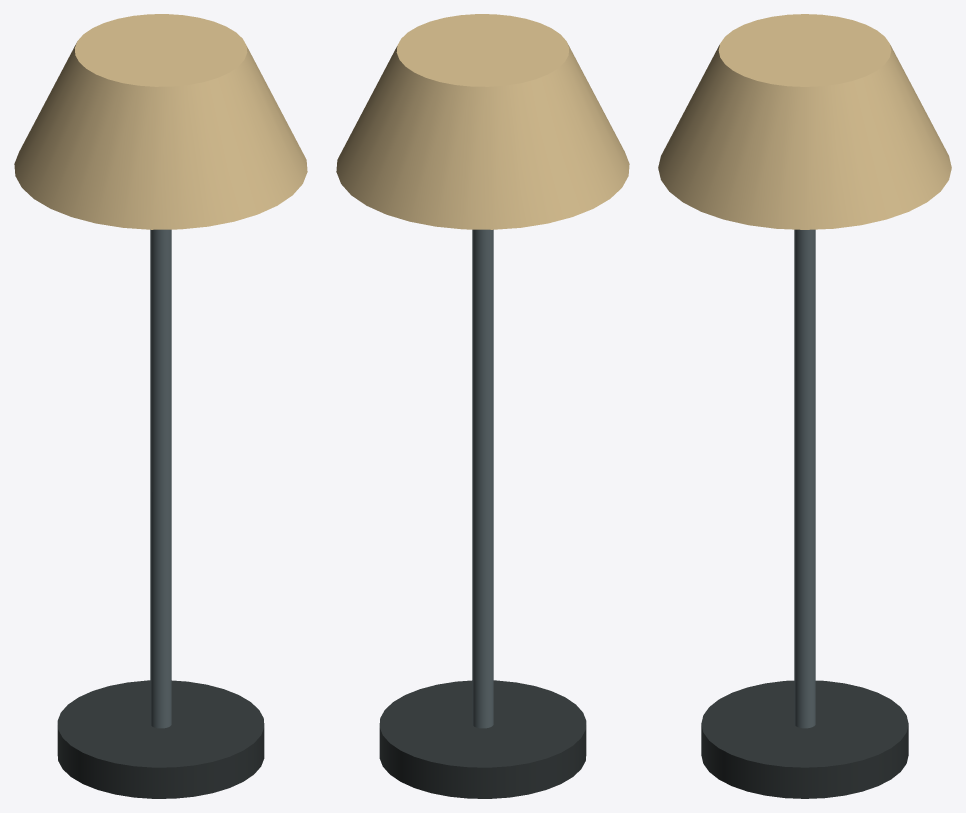
File: lamp.glb
3 renders of one model, left to right at view 1: azimuth 30°, elevation 25°; view 2: azimuth 150°, elevation 25°; view 3: azimuth 270°, elevation 25°, orthographic.
Parts seen in each view (by area): view 1: Напольный светильник; view 2: Напольный светильник; view 3: Напольный светильник.
Boxes of the visible parts, <box> form: Напольный светильник: <box>14,14,307,798</box>; Напольный светильник: <box>336,14,629,798</box>; Напольный светильник: <box>658,14,951,798</box>.
Size of the model in its own units: 0.68 by 1.8 by 0.68.
